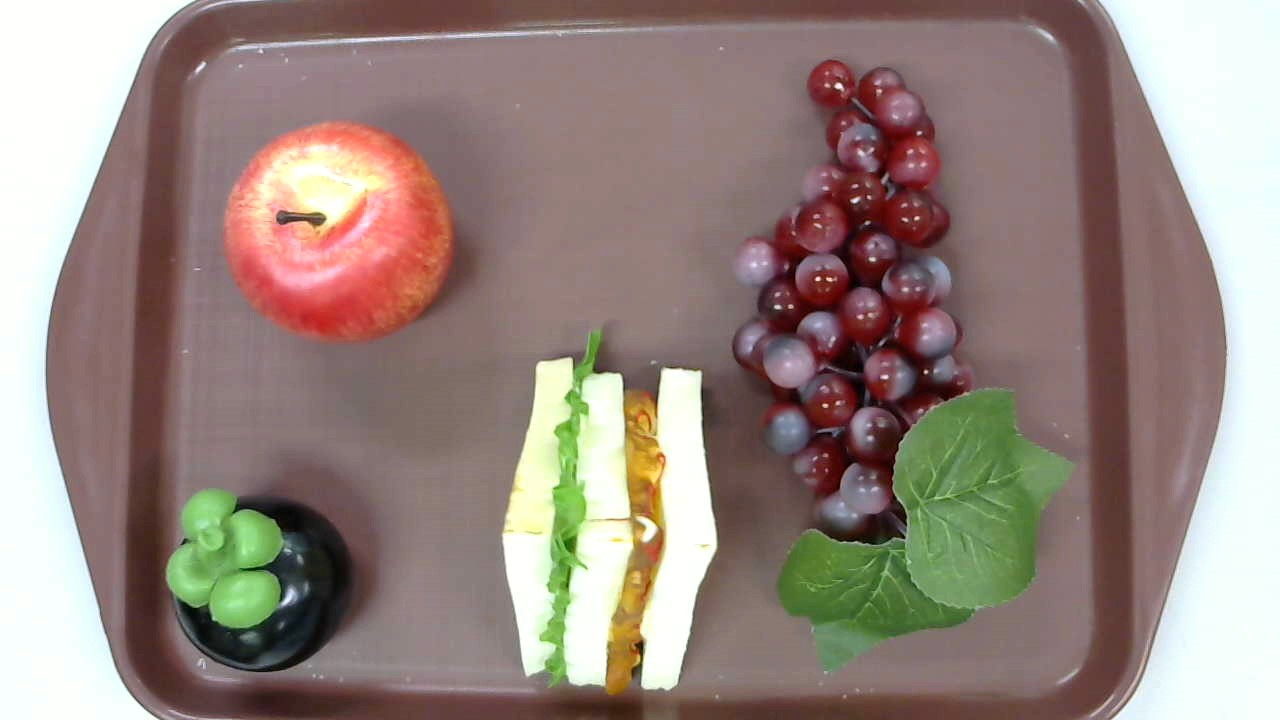grape: (732, 59, 1074, 676)
mangosteen: (165, 487, 355, 672)
red apple: (222, 120, 454, 345)
sandwich: (502, 327, 718, 696)
